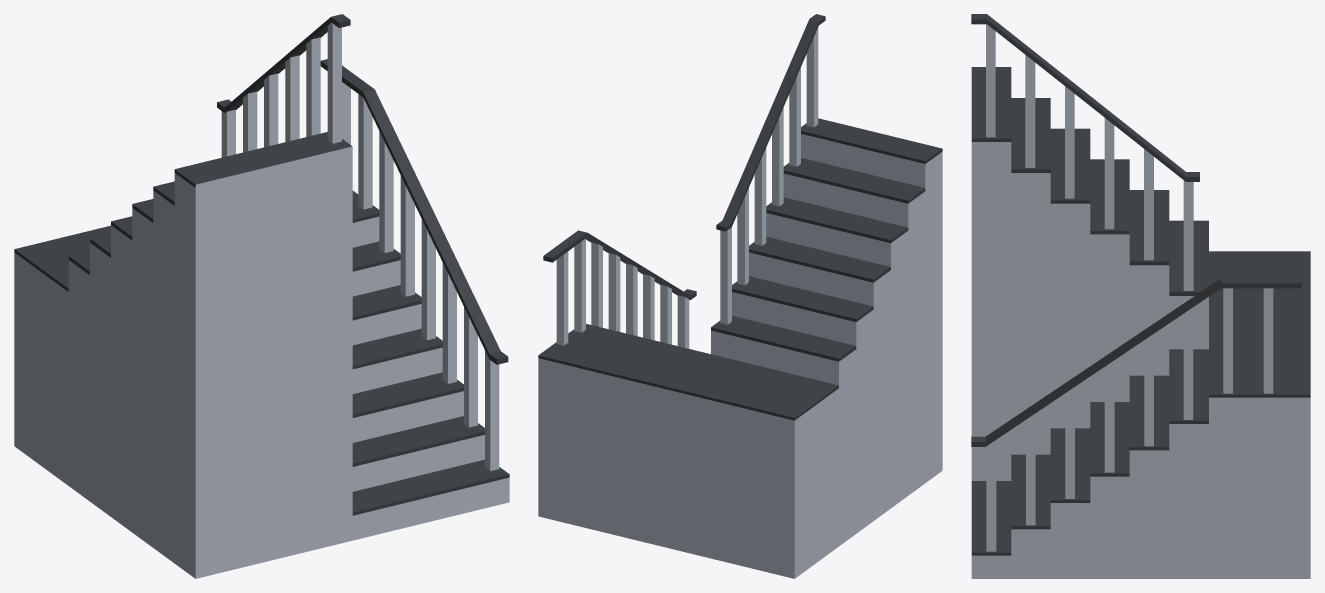
The model's file is Stairs1_C5.fbx.
3 views of the same model, side by side, from view 1: azimuth 30°, elevation 25°; view 2: azimuth 150°, elevation 25°; view 3: azimuth 270°, elevation 25° (orthographic). The views are drawn at different scales.
Parts seen in each view (by area): view 1: Stairs1_C5; view 2: Stairs1_C5; view 3: Stairs1_C5.
Part boxes in pixels (<box>): Stairs1_C5: <box>14,14,509,578</box>; Stairs1_C5: <box>538,14,942,578</box>; Stairs1_C5: <box>971,14,1310,578</box>.
Size of the model in its own units: 250 by 397 by 250.
